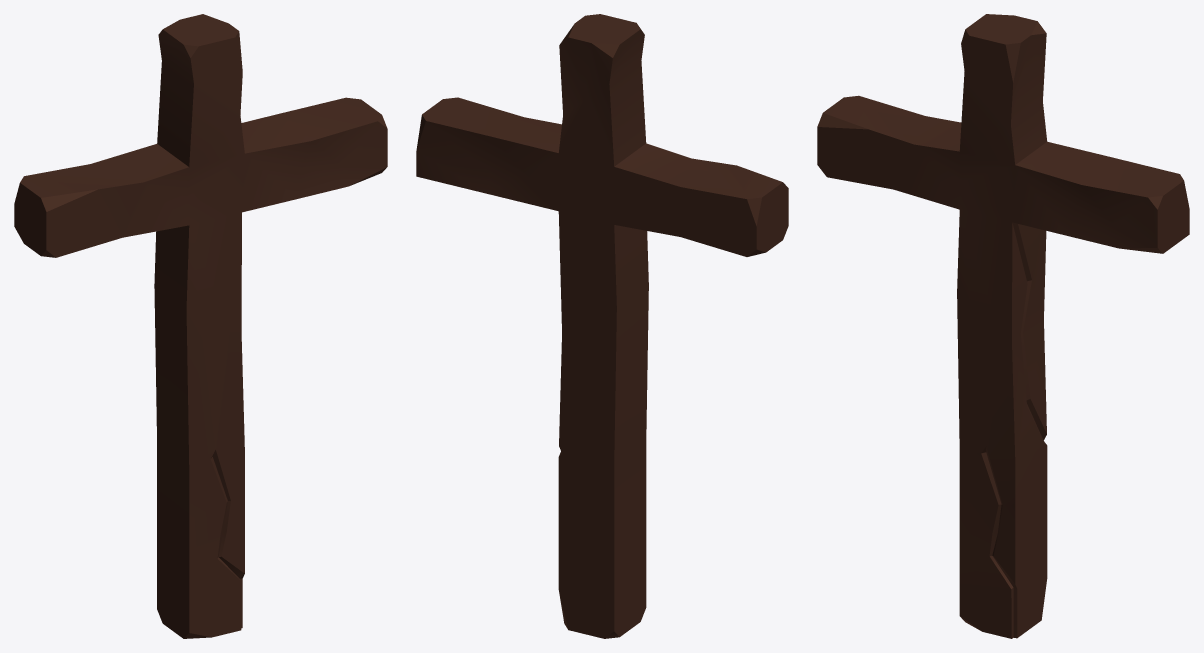
The model's file is Croix_Bois.FBX.
3 renders of one model, left to right at view 1: azimuth 30°, elevation 25°; view 2: azimuth 150°, elevation 25°; view 3: azimuth 330°, elevation 25°, orthographic.
Visible parts, largest first — view 1: Croix_Bois; view 2: Croix_Bois; view 3: Croix_Bois.
Part boxes in pixels (box(x1,y1,x2,y2)): Croix_Bois: box(14, 14, 387, 638); Croix_Bois: box(416, 14, 788, 638); Croix_Bois: box(817, 14, 1189, 638).
Bounding box in the file's own units: 12.27 × 20.42 × 2.
Materials: 1 (1 with a texture image).
